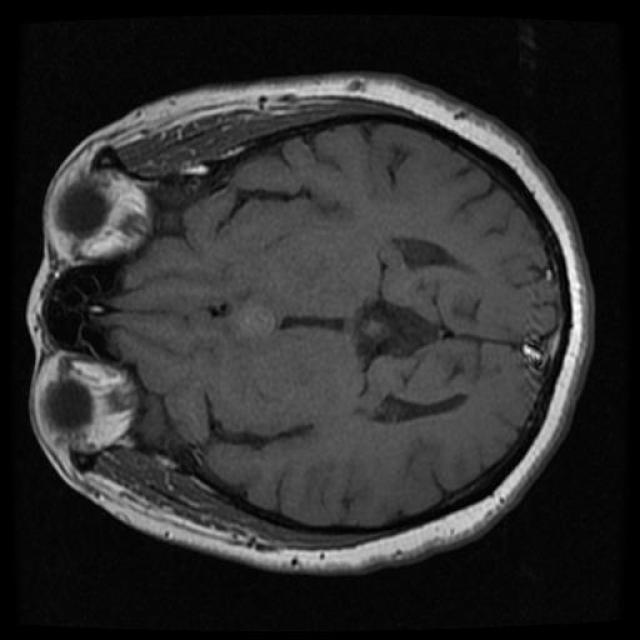Pituitary: (231, 302, 276, 337)
